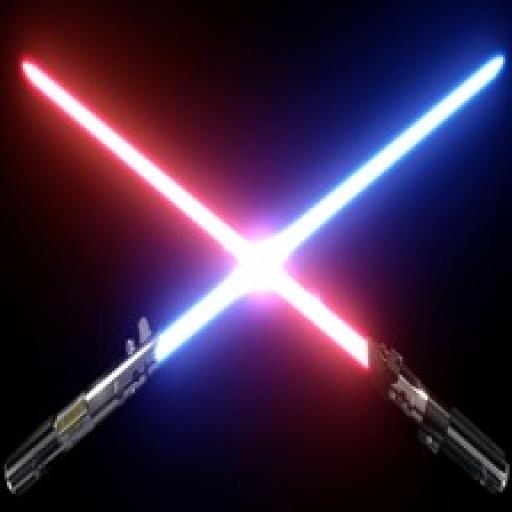lightsaber: (5, 53, 504, 494)
sith saber: (18, 58, 508, 492)
